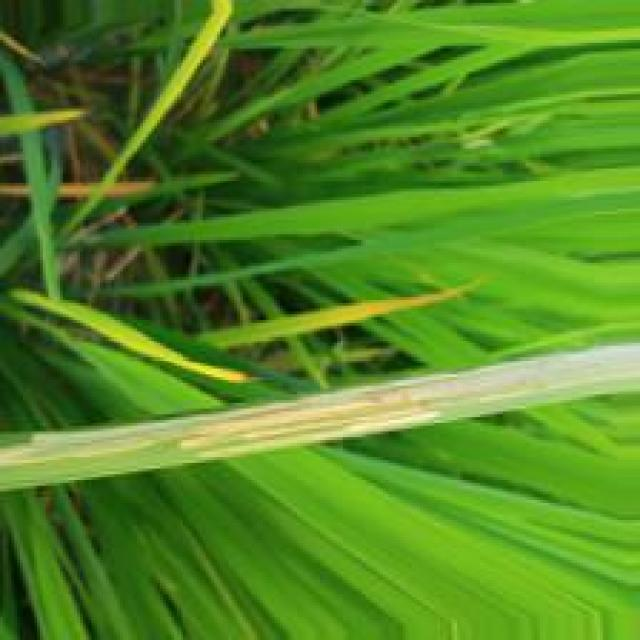Rice_Hispa: (180, 386, 444, 462)
